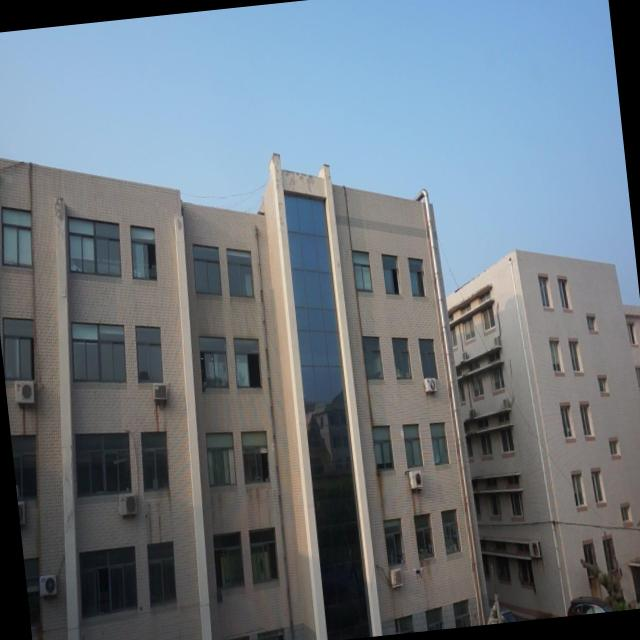drone: (407, 561, 428, 582)
